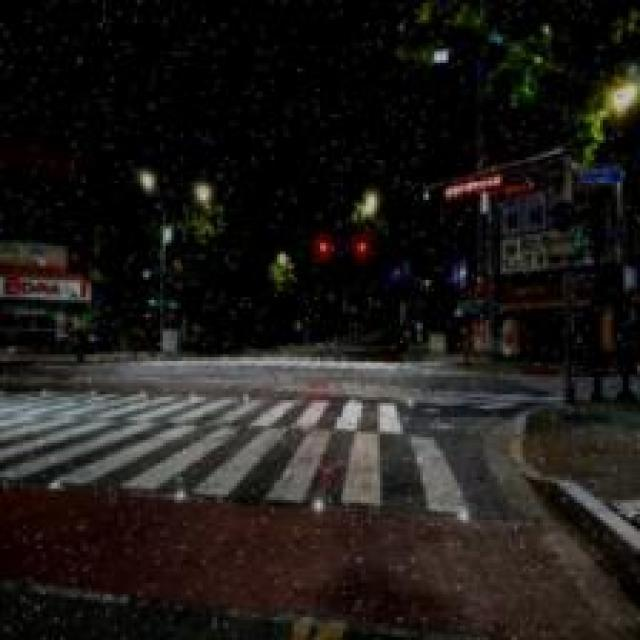crosswalk: (7, 389, 523, 522)
